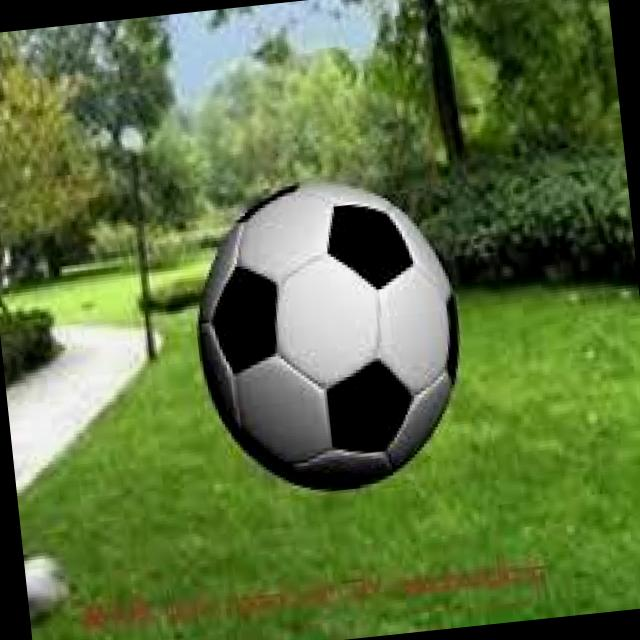Soccer Ball: (181, 164, 472, 509)
